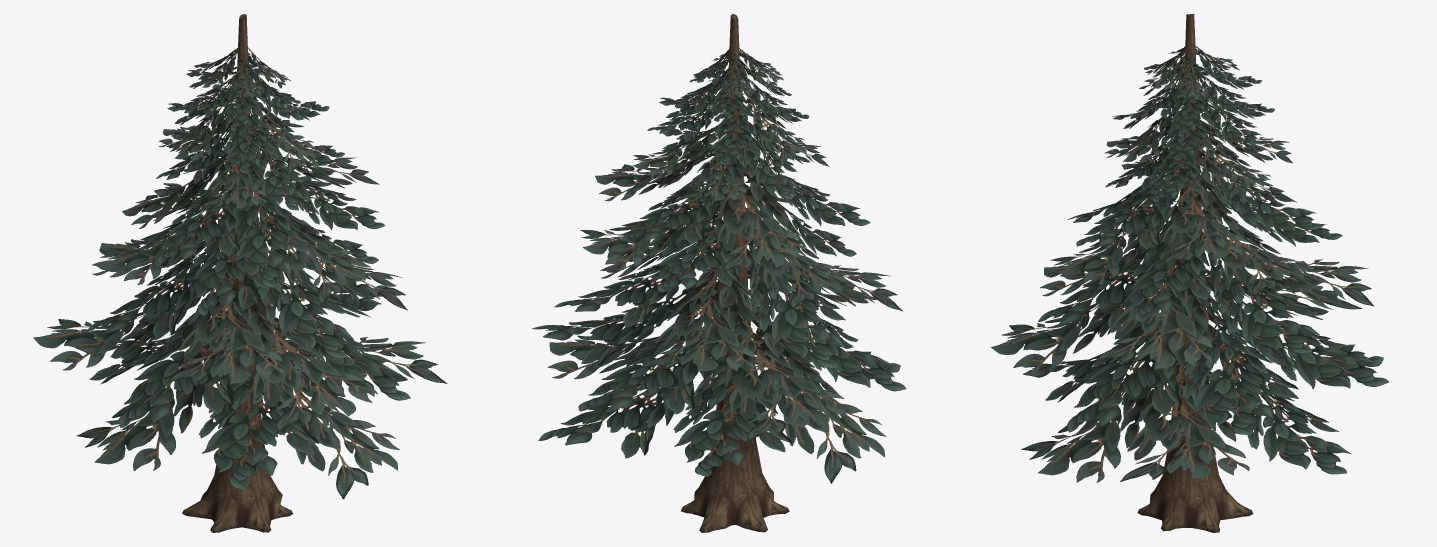
Rendered from SpruceTree.FBX.
The picture shows the model from 3 angles, left to right: view 1: azimuth 30°, elevation 25°; view 2: azimuth 150°, elevation 25°; view 3: azimuth 270°, elevation 25°; orthographic projection.
Parts seen in each view (by area): view 1: SpruceTree; view 2: SpruceTree; view 3: SpruceTree.
Boxes of the visible parts, x1=… form: SpruceTree: x1=33, y1=14, x2=447, y2=532; SpruceTree: x1=532, y1=14, x2=906, y2=532; SpruceTree: x1=991, y1=14, x2=1388, y2=532.
Size of the model in its own units: 81.26 by 79.4 by 97.61.
